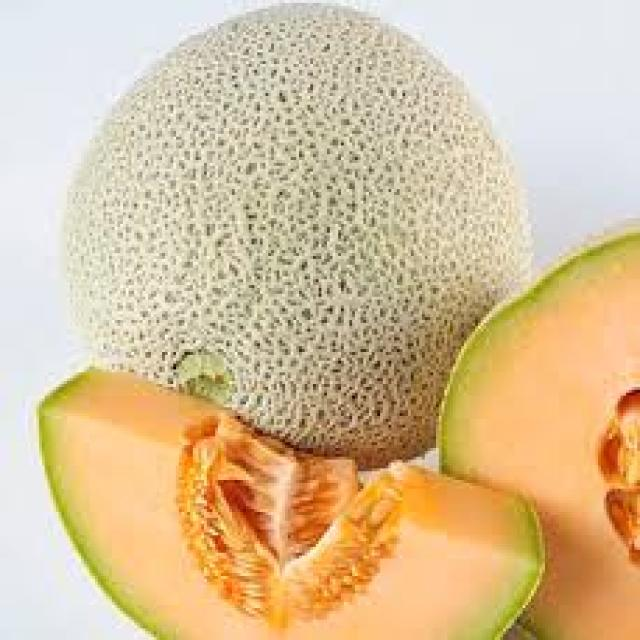cantaloupe: (63, 2, 533, 462), (37, 367, 549, 640)
